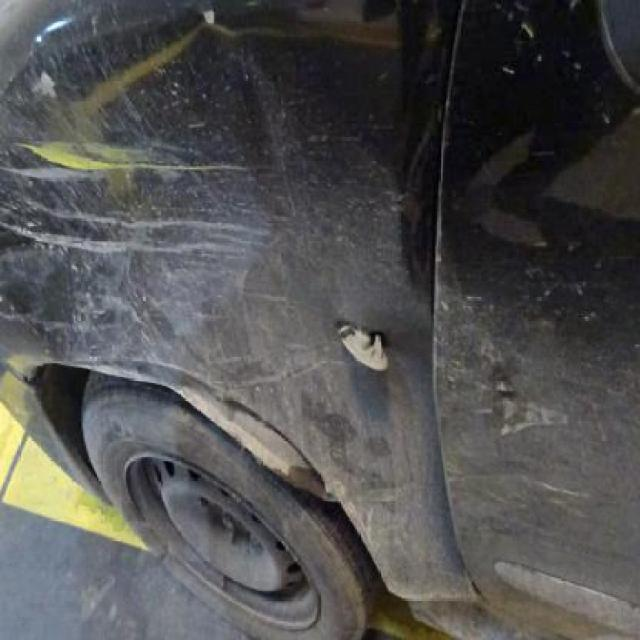car damage: (0, 26, 385, 374)
